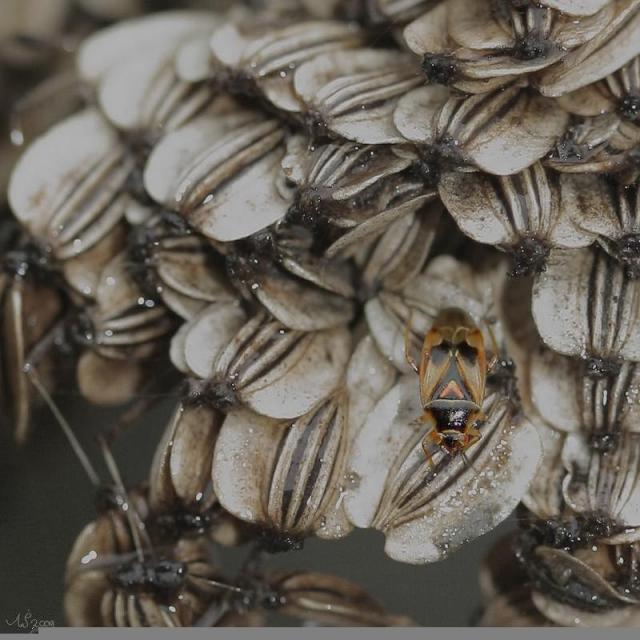Miridae-Adult-: (389, 282, 512, 476)
